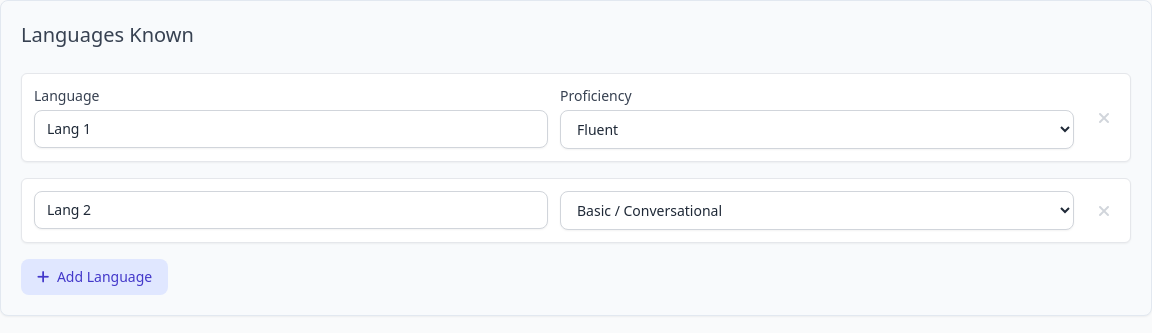
Test case: LanguagesEditor.vue › removes an item when remove button is clicked (if more than one item)
Click the button titled "Remove Language" in the row of "Proficiency": (1104, 118) [1090,102,1118,134]
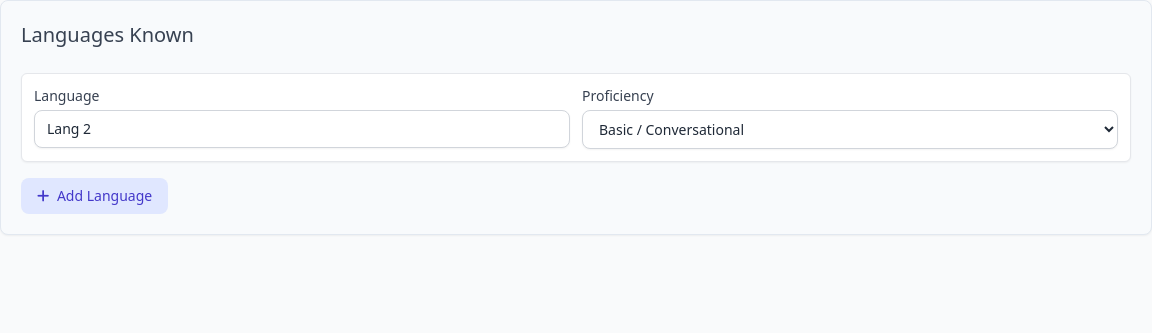
Check: the field showing "Lang 1" is not shown
Check: the number of fields is 1, box [34,110,570,148]
